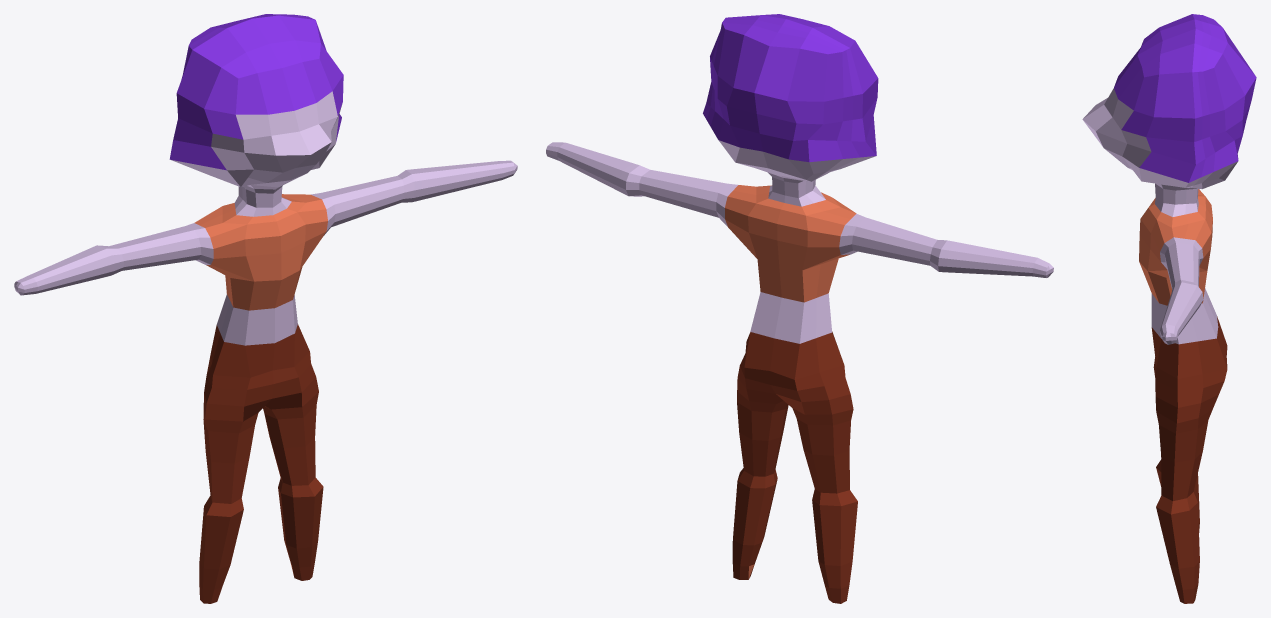
The model's file is womenmonster_colored.fbx.
3 renders of one model, left to right at view 1: azimuth 30°, elevation 25°; view 2: azimuth 150°, elevation 25°; view 3: azimuth 270°, elevation 25°, orthographic. The views are drawn at different scales.
Visible parts, largest first — view 1: Cube.002; view 2: Cube.002; view 3: Cube.002.
Part boxes in pixels (left/top/right/bottom): Cube.002: left=14, top=14, right=517, bottom=603; Cube.002: left=546, top=14, right=1053, bottom=603; Cube.002: left=1082, top=14, right=1256, bottom=603.
Bounding box in the file's own units: 295 × 320 × 91.98.
